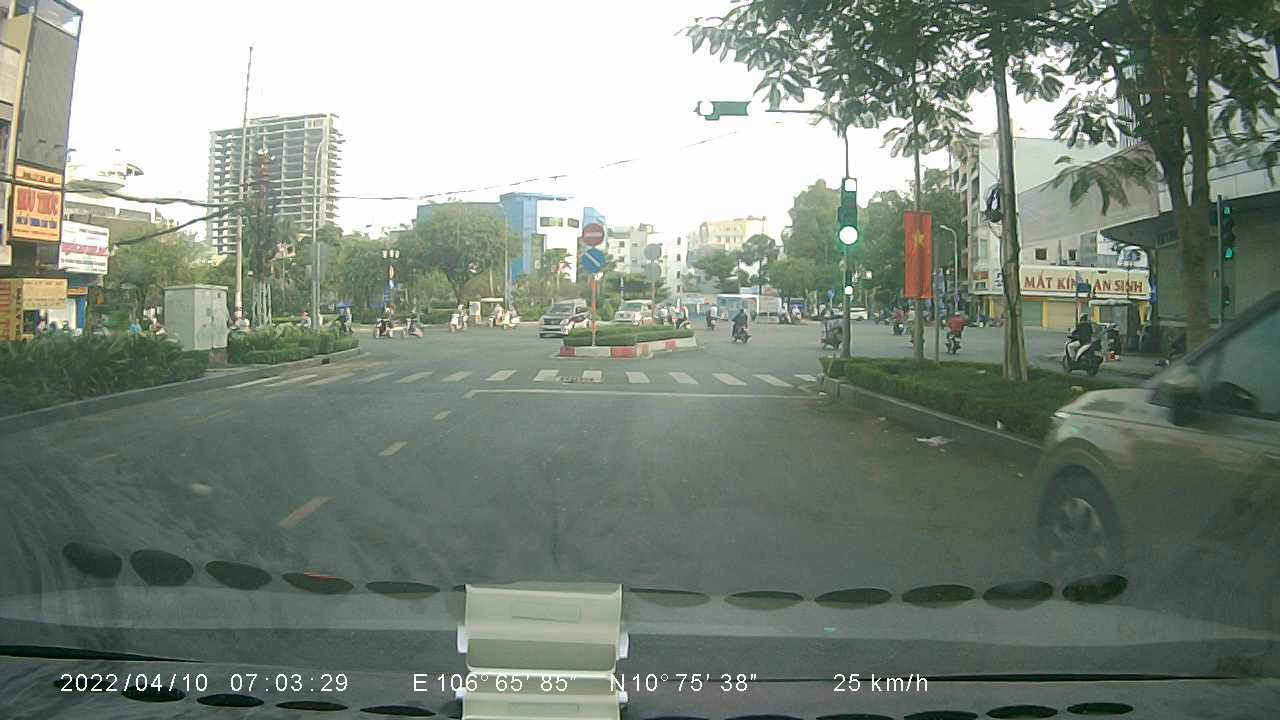Cam di nguoc chieu: (576, 219, 604, 248)
Huong di phai re phai: (580, 248, 604, 273)
